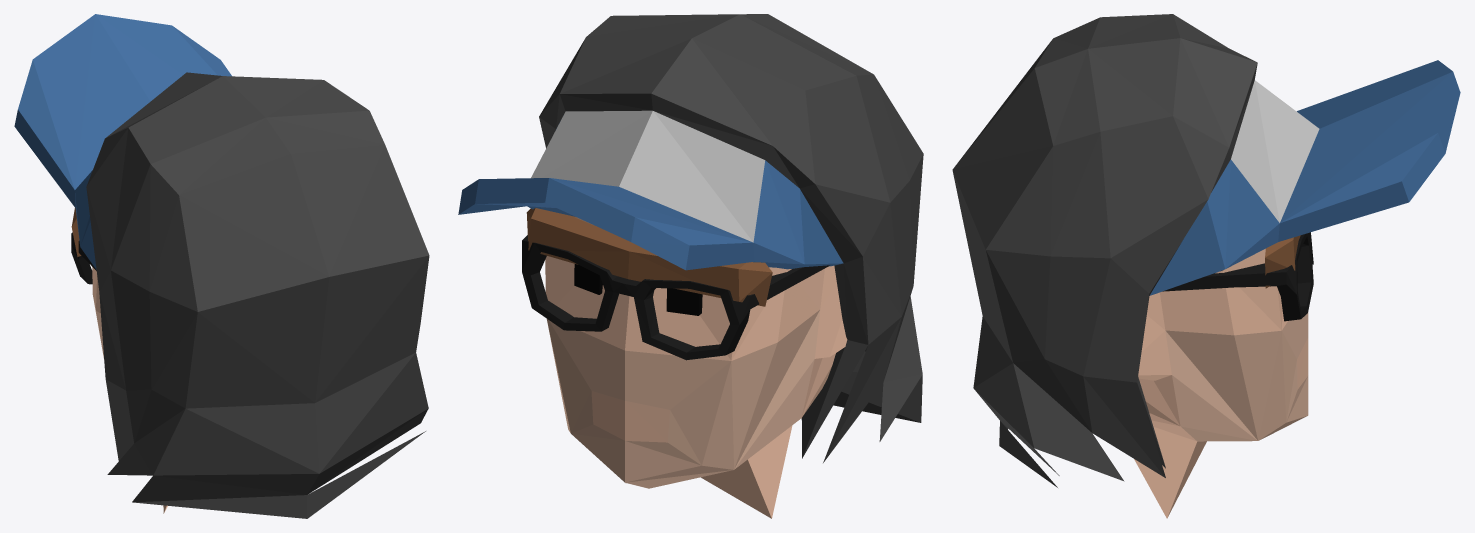
File: Son_01_Head_0_03_A.obj
3 renders of one model, left to right at view 1: azimuth 30°, elevation 25°; view 2: azimuth 150°, elevation 25°; view 3: azimuth 270°, elevation 25°, orthographic. The views are drawn at different scales.
Parts seen in each view (by area): view 1: Son_01_Head_0_03_A; view 2: Son_01_Head_0_03_A; view 3: Son_01_Head_0_03_A.
Boxes of the visible parts, x1,y1,x2,y2 form: Son_01_Head_0_03_A: (14, 14, 429, 518); Son_01_Head_0_03_A: (458, 14, 923, 518); Son_01_Head_0_03_A: (952, 14, 1460, 518).
Size of the model in its own units: 0.2947 by 0.3976 by 0.4097.
1 material, 1 textured.
